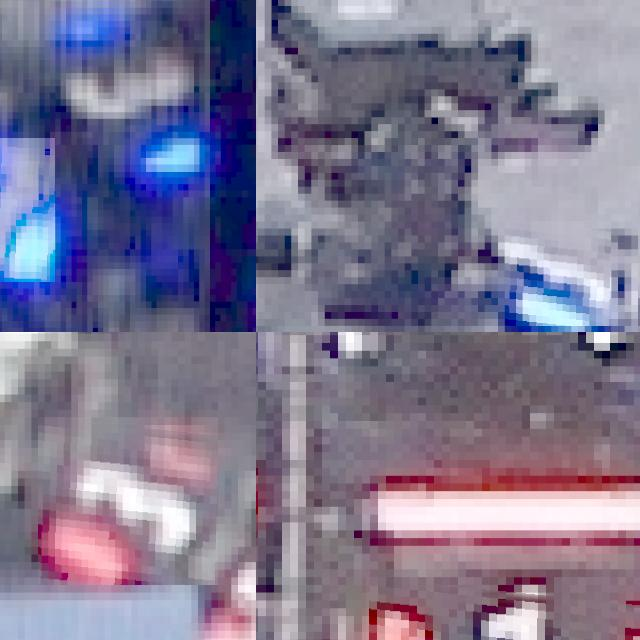B3: (505, 221, 611, 326), (0, 138, 55, 281)
R1: (366, 577, 640, 640)
R3: (38, 417, 218, 585)
